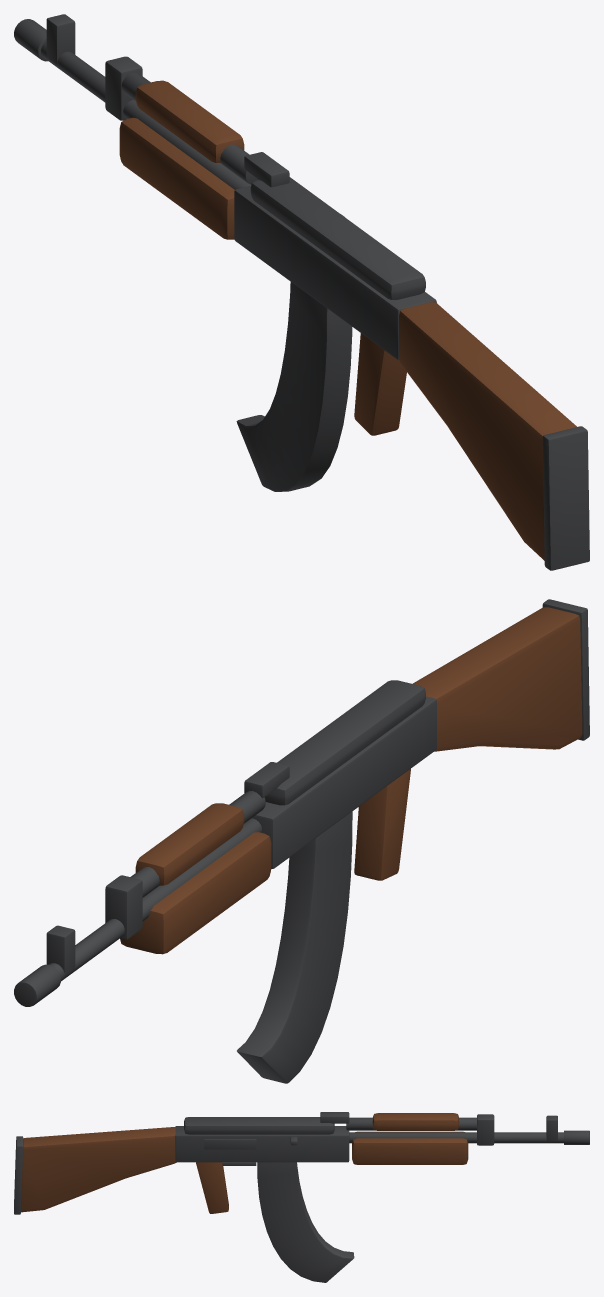
File: rifle.glb
3 renders of one model, top to bottom at view 1: azimuth 30°, elevation 25°; view 2: azimuth 150°, elevation 25°; view 3: azimuth 270°, elevation 25°, orthographic. The views are drawn at different scales.
Parts seen in each view (by area): view 1: rifle_stock, rifle_mag, rifle_receiver, rifle_cover, rifle_lhandguard, rifle_buttplate, rifle_uhandguard, rifle_pgrip, rifle_barrel, rifle_gasblock, rifle_fsight, rifle_gastube (+2 smaller); view 2: rifle_stock, rifle_mag, rifle_receiver, rifle_lhandguard, rifle_cover, rifle_pgrip, rifle_uhandguard, rifle_barrel, rifle_gasblock, rifle_buttplate, rifle_brake, rifle_fsight (+2 smaller); view 3: rifle_stock, rifle_mag, rifle_receiver, rifle_lhandguard, rifle_cover, rifle_barrel, rifle_uhandguard, rifle_pgrip, rifle_gastube, rifle_buttplate, rifle_selector, rifle_gasblock (+3 smaller).
Boxes of the visible parts, bbox=[...] form: rifle_stock: bbox=[399, 302, 576, 560]; rifle_mag: bbox=[236, 282, 352, 491]; rifle_receiver: bbox=[234, 186, 436, 359]; rifle_cover: bbox=[250, 177, 425, 299]; rifle_lhandguard: bbox=[119, 117, 234, 239]; rifle_buttplate: bbox=[542, 426, 589, 570]; rifle_uhandguard: bbox=[135, 80, 244, 162]; rifle_pgrip: bbox=[354, 333, 406, 435]; rifle_barrel: bbox=[41, 41, 251, 189]; rifle_gasblock: bbox=[105, 56, 142, 120]; rifle_fsight: bbox=[46, 14, 75, 64]; rifle_gastube: bbox=[121, 72, 258, 184]; rifle_stock: bbox=[412, 607, 582, 751]; rifle_mag: bbox=[237, 811, 352, 1083]; rifle_receiver: bbox=[252, 696, 436, 868]; rifle_lhandguard: bbox=[120, 832, 271, 954]; rifle_cover: bbox=[264, 680, 425, 805]; rifle_pgrip: bbox=[354, 769, 410, 880]; rifle_uhandguard: bbox=[135, 803, 244, 885]; rifle_barrel: bbox=[49, 818, 261, 981]; rifle_gasblock: bbox=[105, 875, 142, 939]; rifle_buttplate: bbox=[542, 599, 589, 740]; rifle_brake: bbox=[14, 964, 60, 1006]; rifle_fsight: bbox=[46, 925, 75, 975]; rifle_stock: bbox=[21, 1127, 176, 1212]; rifle_mag: bbox=[257, 1162, 354, 1282]; rifle_receiver: bbox=[175, 1126, 349, 1162]; rifle_lhandguard: bbox=[352, 1131, 468, 1164]; rifle_cover: bbox=[184, 1117, 334, 1134]; rifle_barrel: bbox=[349, 1132, 563, 1143]; rifle_uhandguard: bbox=[372, 1113, 459, 1130]; rifle_pgrip: bbox=[196, 1162, 228, 1213]; rifle_gastube: bbox=[346, 1117, 477, 1130]; rifle_buttplate: bbox=[14, 1136, 23, 1214]; rifle_selector: bbox=[204, 1139, 256, 1149]; rifle_gasblock: bbox=[477, 1114, 494, 1145].
Bounding box in the file's own units: 0.065 × 0.3152 × 0.9929.
